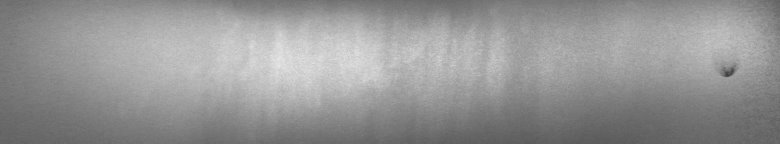fi: (716, 60, 741, 84)
